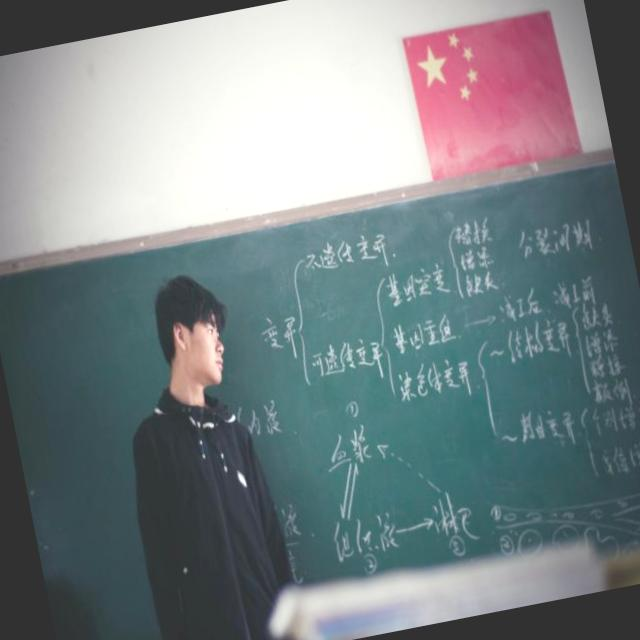person: (91, 263, 310, 640)
